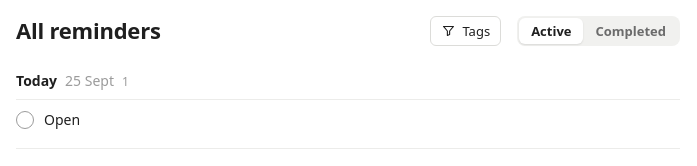
Test: AllRemindersView › switches to completed reminders, which are a flat list
The width and height of the screenshot is (697, 166).
Click the tab "Completed" at [631, 31], box 584,18 -> 678,44
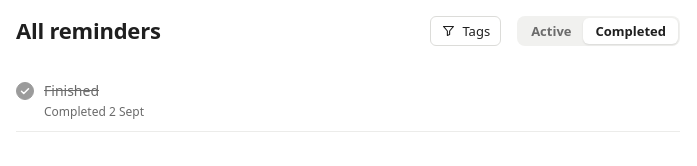
Expected: the text "Finished" is shown, 44,81 -> 99,101
Expected: the button "Open" is gone
Expected: no the heading "Today25 Sept" are shown
